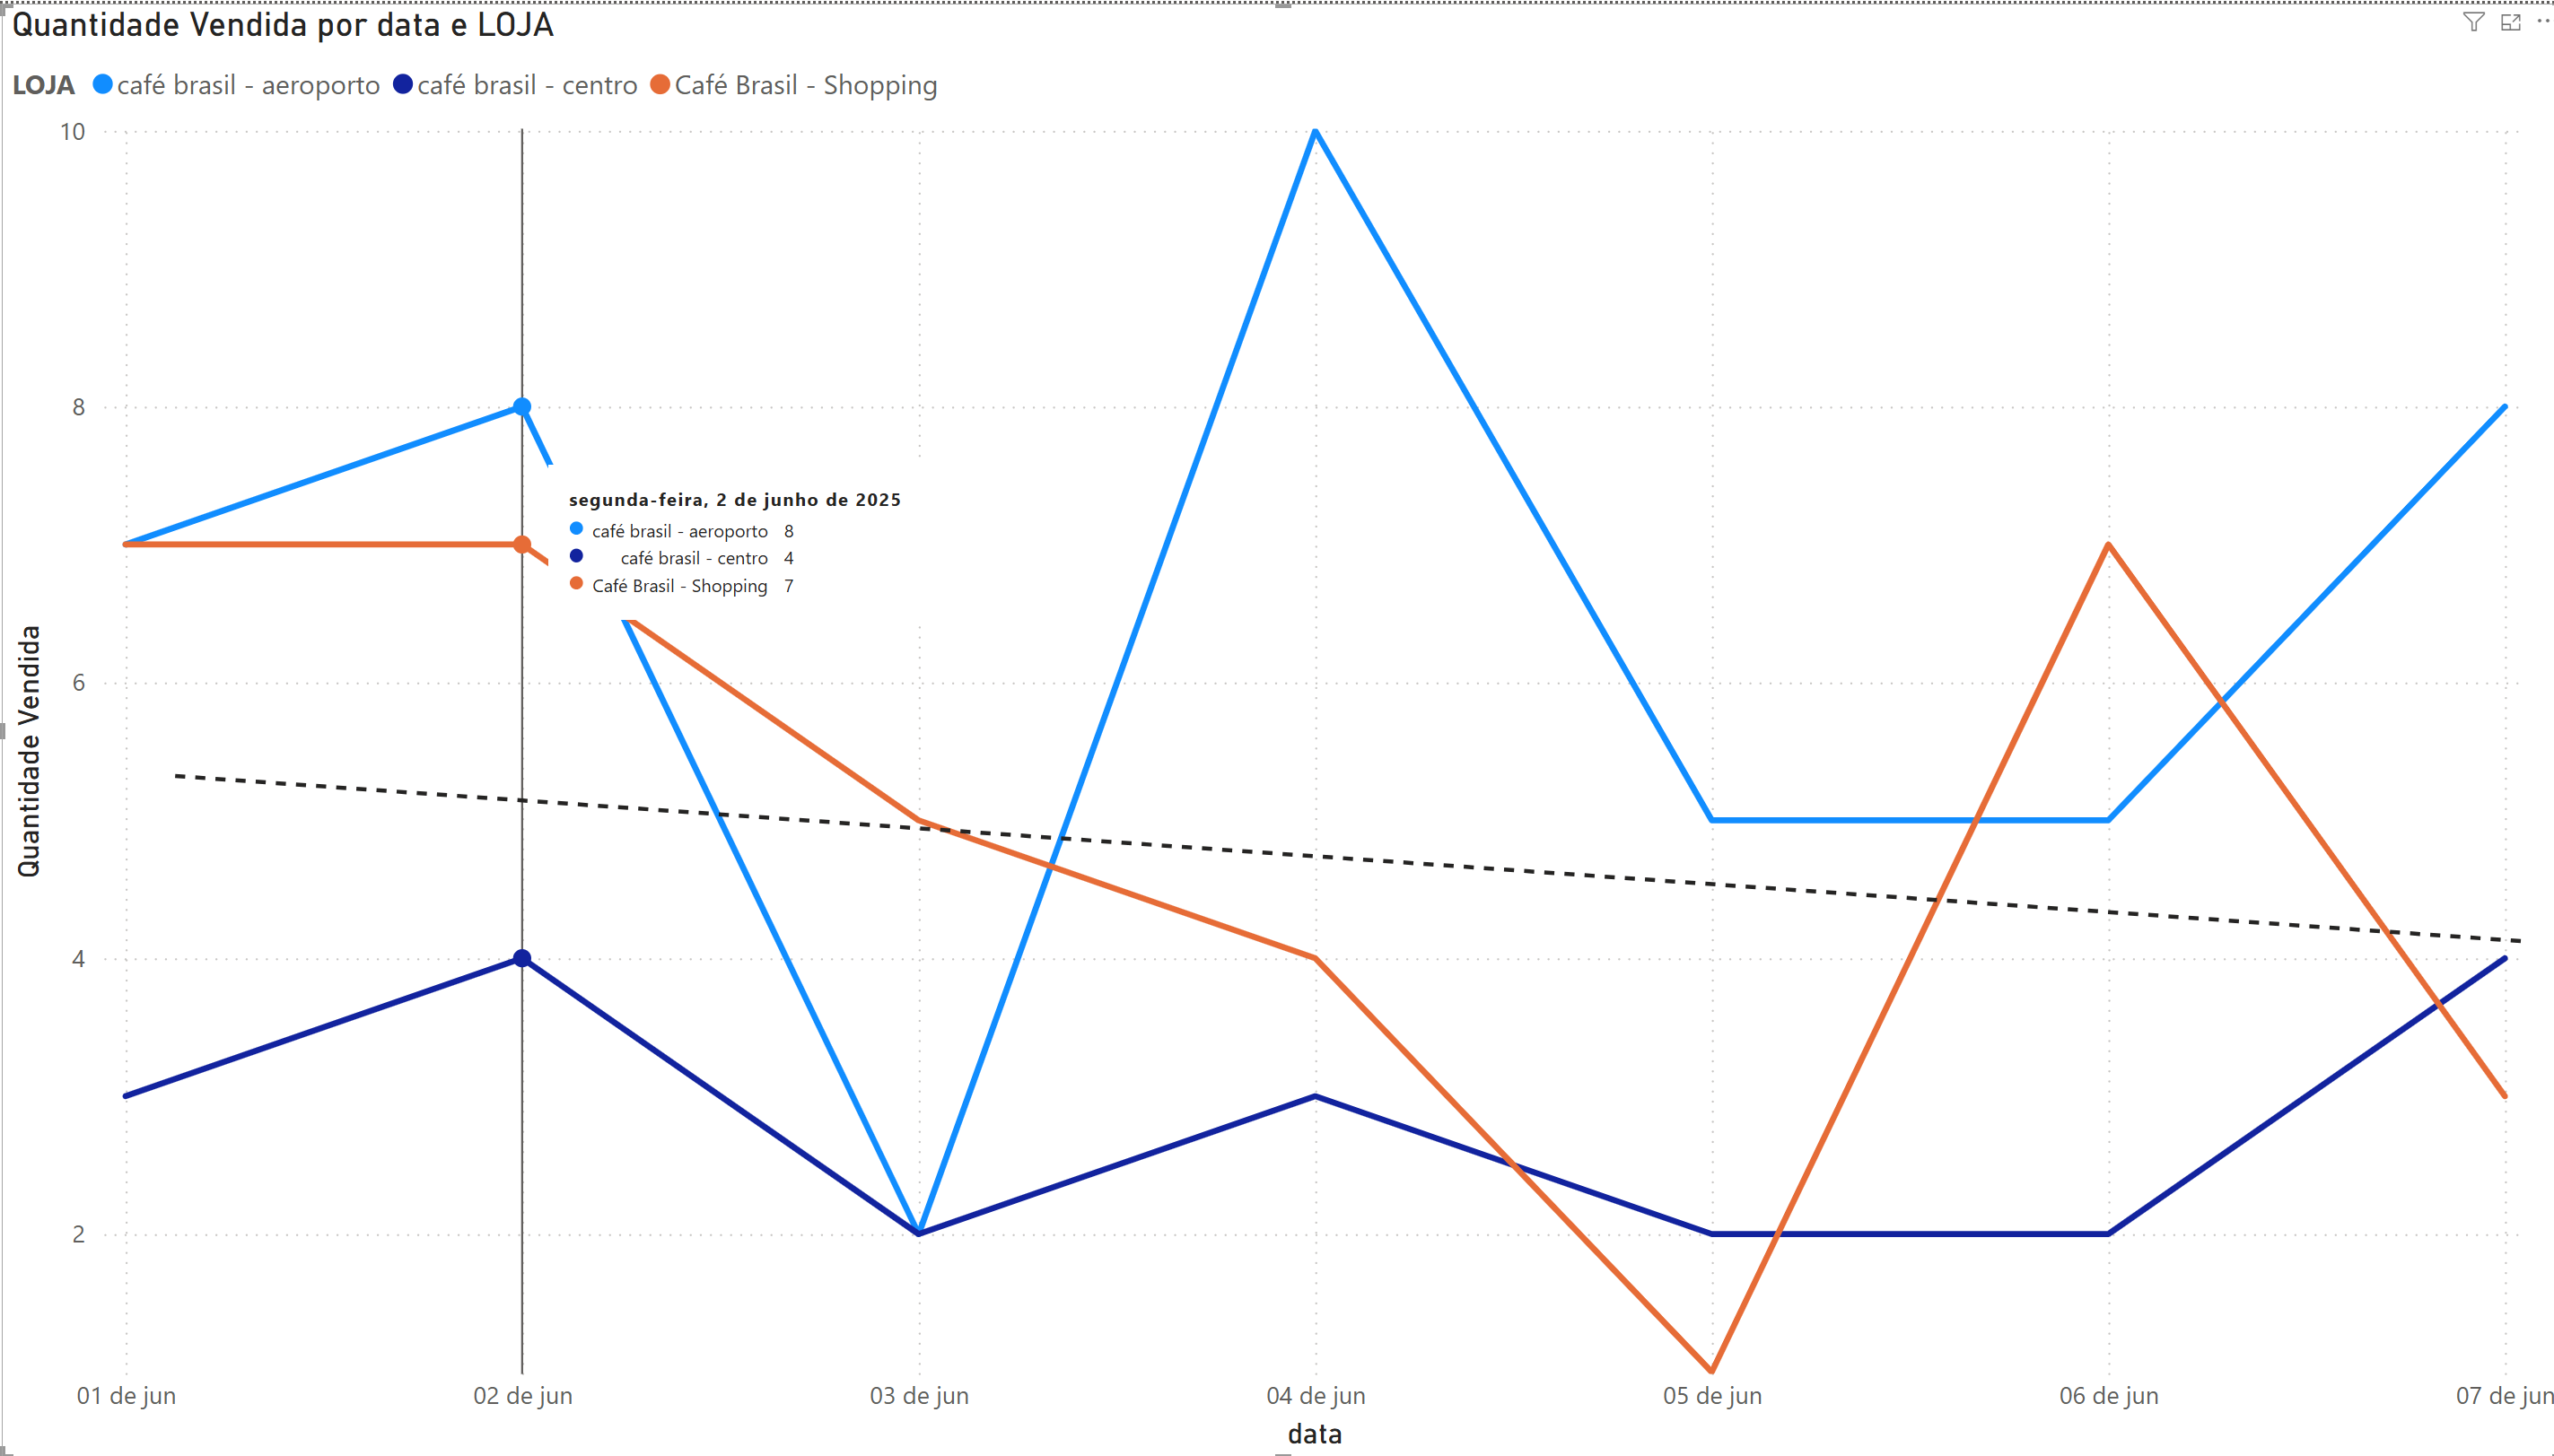

What the dashboard file says about the page in this screenshot:
{"tool":"powerbi","page":{"name":"Página 2","canvas":[1280,720],"ordinal":1},"visuals":[{"type":"lineChart","fields":{"Category":["public dim_data.data"],"Series":["public dim_loja.nome"],"Y":["public fato_vendas.Quantidade Vendida"]},"box":[10.5,0,1269.8,720.8],"z":0}]}

Visuals, with their boxes in screenshot pixels (x1, y1, x2, y2), scaled from the page's 1280x720 canvas onto the 2554x1456 screenshot:
lineChart - public dim_data.data x public dim_loja.nome: l=21, t=0, r=2553, b=1455
